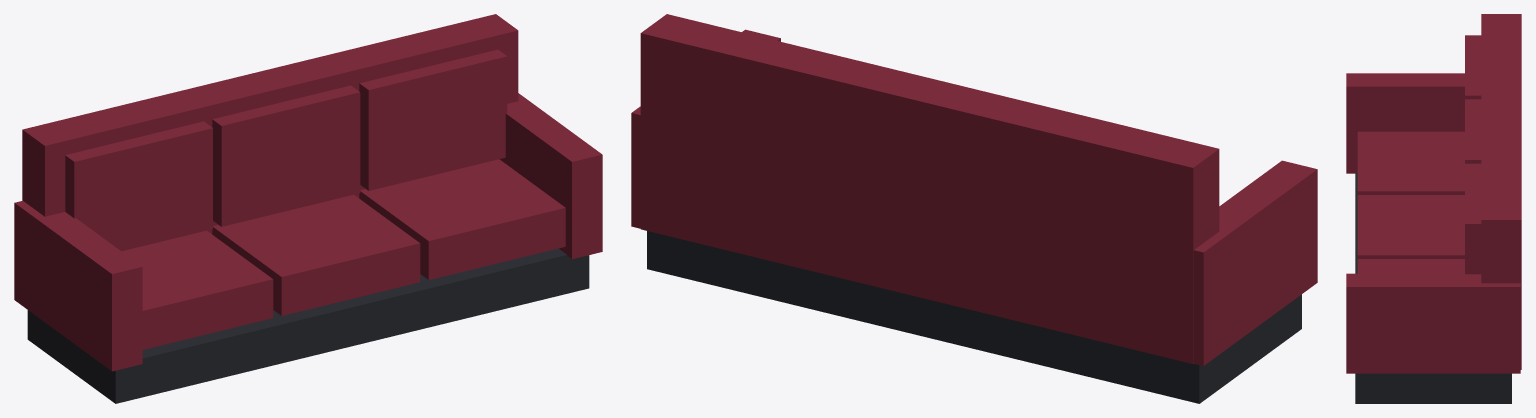
File: sofa.glb
3 renders of one model, left to right at view 1: azimuth 30°, elevation 25°; view 2: azimuth 150°, elevation 25°; view 3: azimuth 270°, elevation 25°, orthographic. The views are drawn at different scales.
Parts seen in each view (by area): view 1: sofa; view 2: sofa; view 3: sofa.
Boxes of the visible parts, x1,y1,x2,y2 form: sofa: [14, 14, 602, 403]; sofa: [631, 14, 1317, 403]; sofa: [1346, 14, 1521, 403].
Bounding box in the file's own units: 2.9 × 1.23 × 1.
